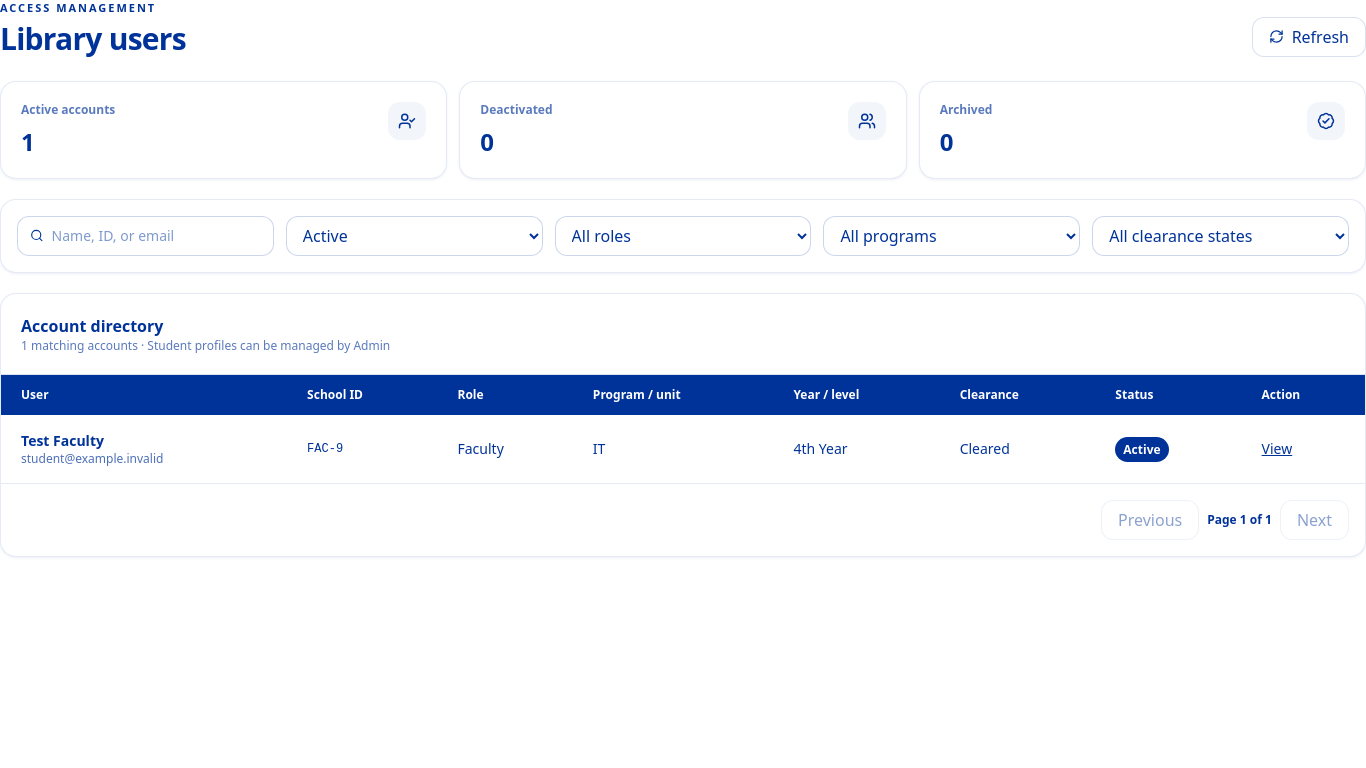
AdminUsersPage › shows Faculty account records without student management actions
What coordinates should you click on to do the following:
click the button "View"
I would click on:
 (1277, 448)
Its box is [1262, 438, 1292, 458].
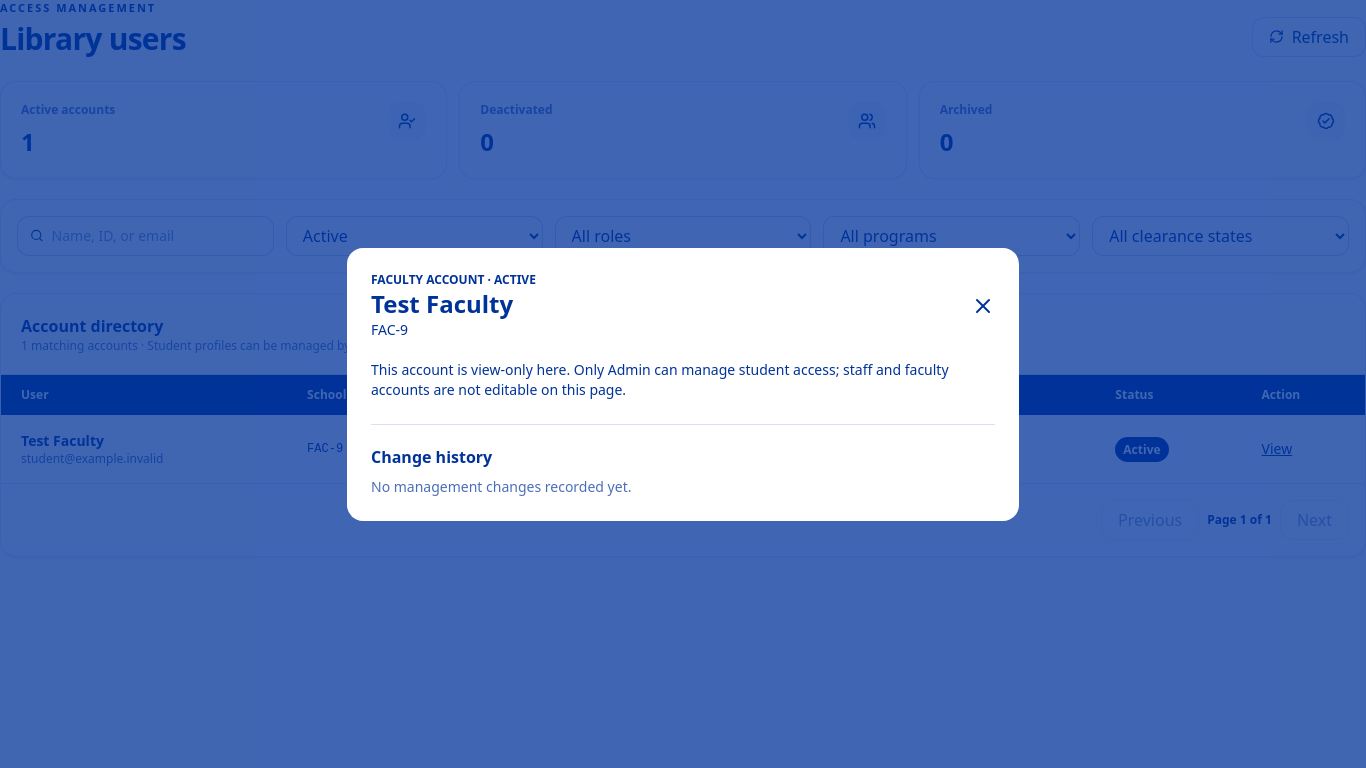
Now the dialog named "Account record" is shown, box [347, 248, 1019, 520]
